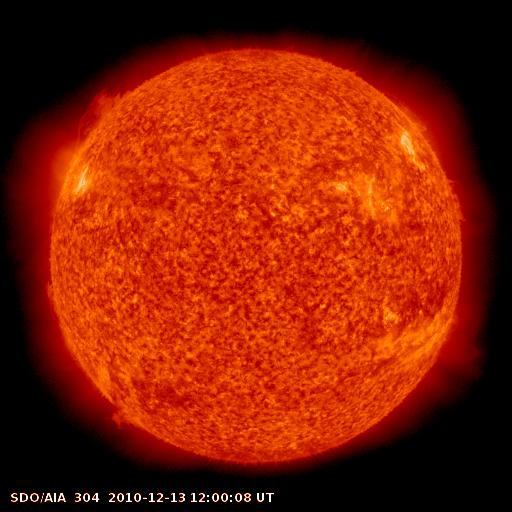prominence: (415, 300, 495, 390), (71, 77, 139, 154), (381, 87, 442, 140), (438, 166, 480, 233), (100, 397, 143, 442)
